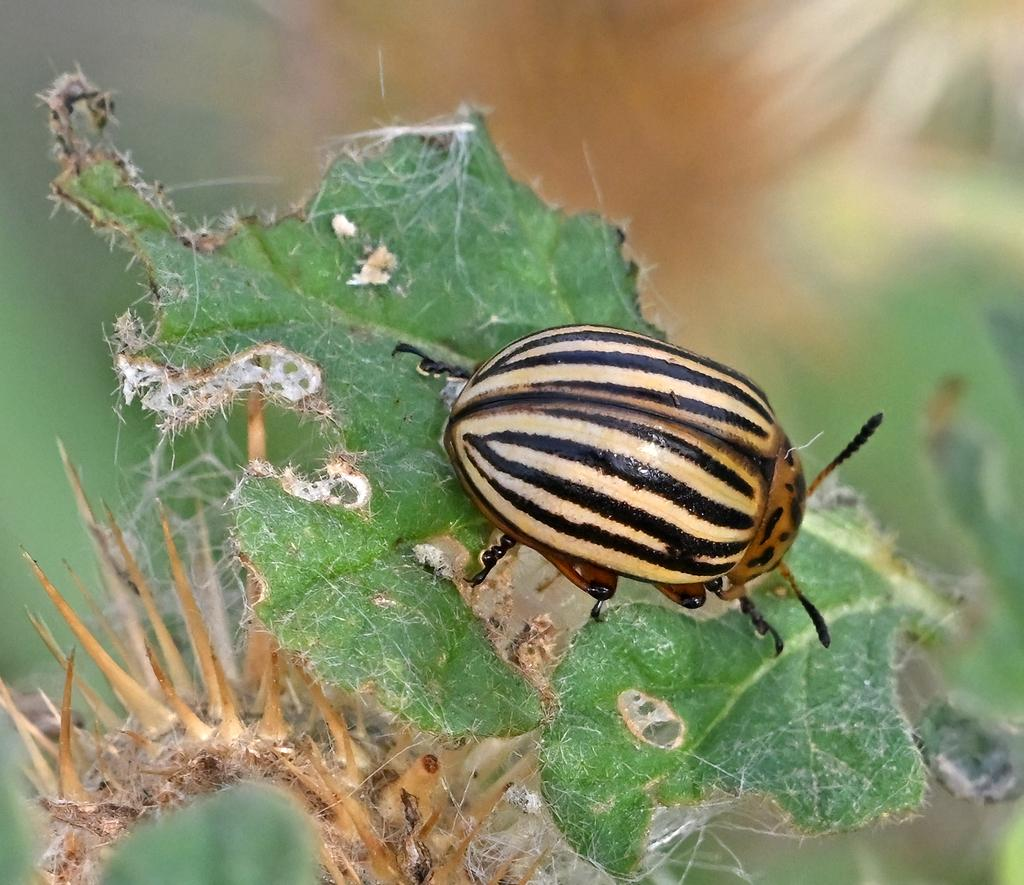potato_beetle: (338, 254, 913, 705)
